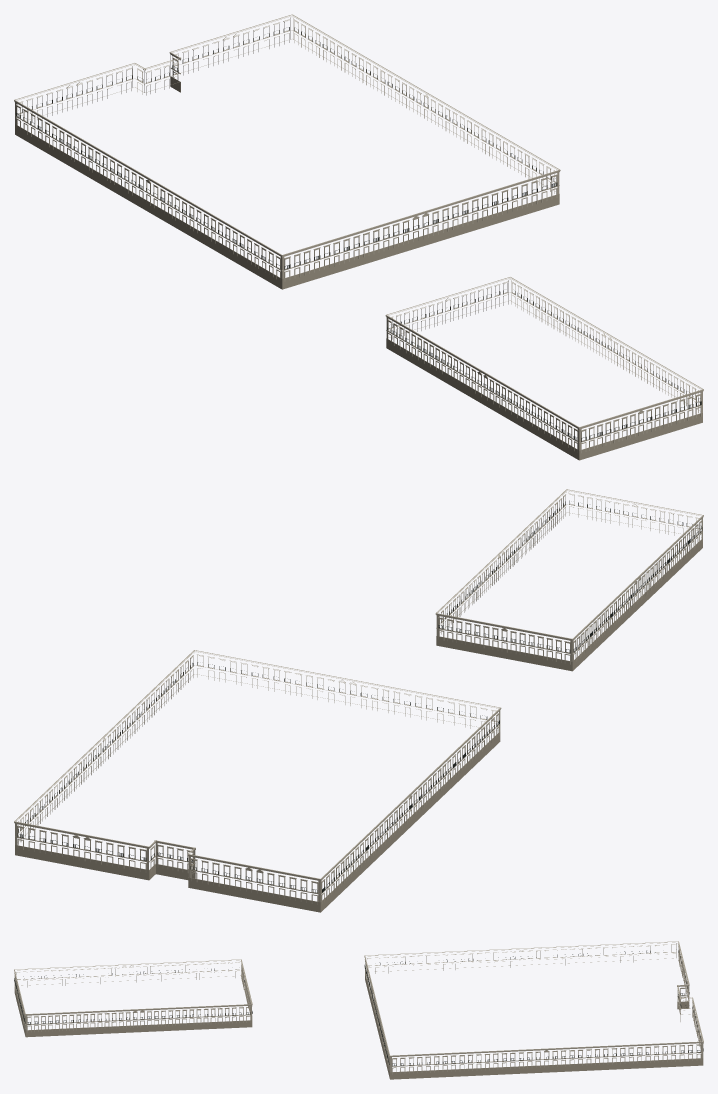
3 views of the same model, one above another, from view 1: azimuth 30°, elevation 25°; view 2: azimuth 150°, elevation 25°; view 3: azimuth 270°, elevation 25° (orthographic). The views are drawn at different scales.
Visible parts, largest first — view 1: detail; view 2: detail; view 3: detail.
Part boxes in pixels (x1,y1,x2,y2): detail: (14,14,703,460); detail: (14,489,703,912); detail: (14,941,703,1079).
Size of the model in its own units: 96.99 by 9.9 by 247.
